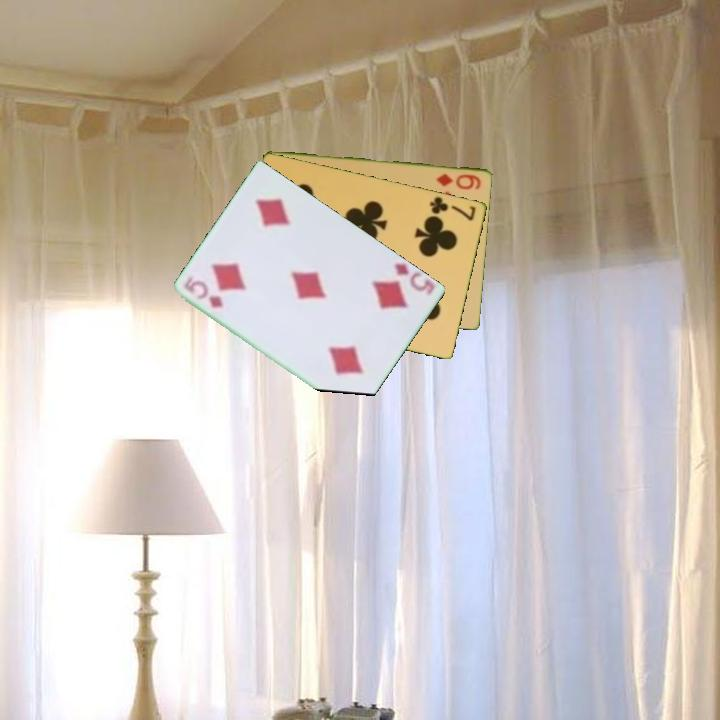5d: (181, 275, 227, 311), (391, 259, 435, 296)
6d: (433, 170, 484, 192)
7c: (426, 193, 479, 223)
